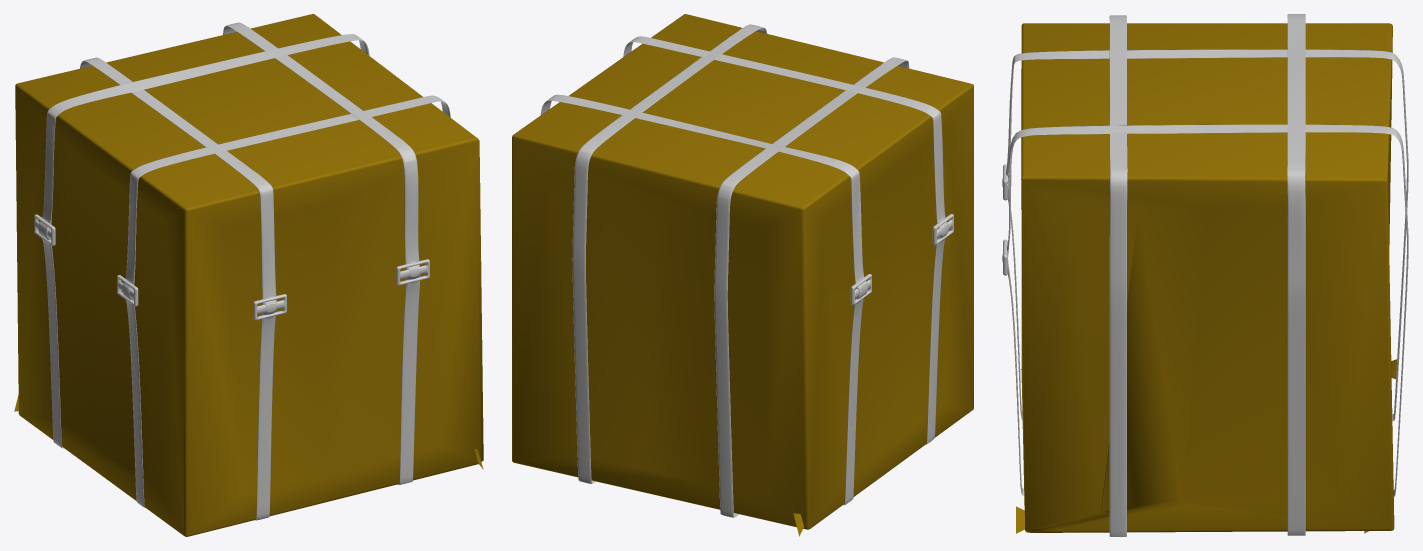
The model's file is yellow_supply_box.obj.
The picture shows the model from 3 angles, left to right: view 1: azimuth 30°, elevation 25°; view 2: azimuth 150°, elevation 25°; view 3: azimuth 270°, elevation 25°; orthographic projection. The views are drawn at different scales.
Visible parts, largest first — view 1: Cube.002, Cube.006; view 2: Cube.002, Cube.006; view 3: Cube.002, Cube.006.
Part boxes in pixels (x1,y1,x2,y2): Cube.002: (14, 14, 483, 536); Cube.006: (38, 22, 450, 520); Cube.002: (512, 14, 973, 536); Cube.006: (540, 24, 948, 517); Cube.002: (1016, 23, 1396, 533); Cube.006: (1002, 14, 1408, 536).
Bounding box in the file's own units: 1.17 × 1.18 × 1.17.
